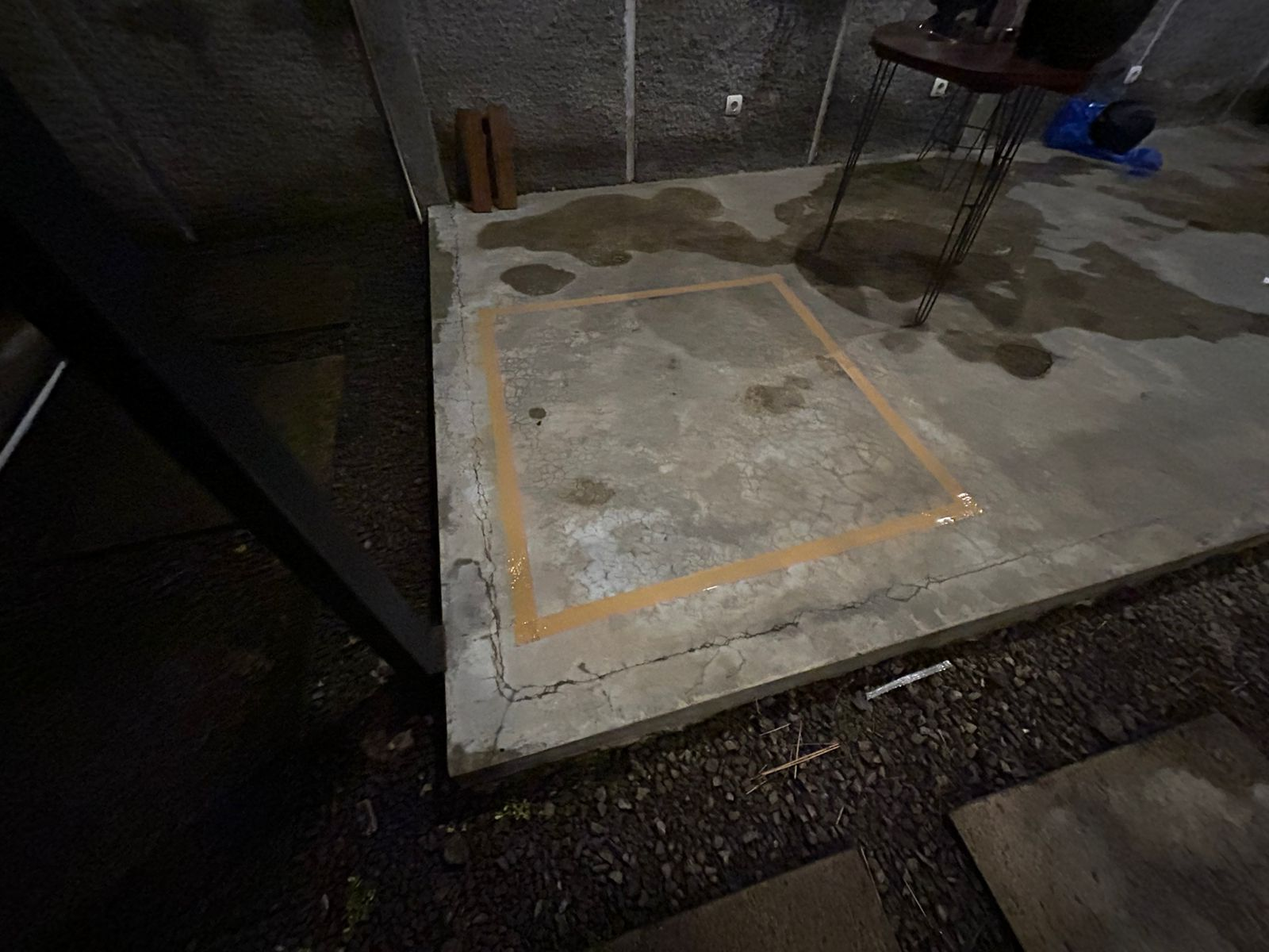floor marking: (477, 274, 979, 643)
